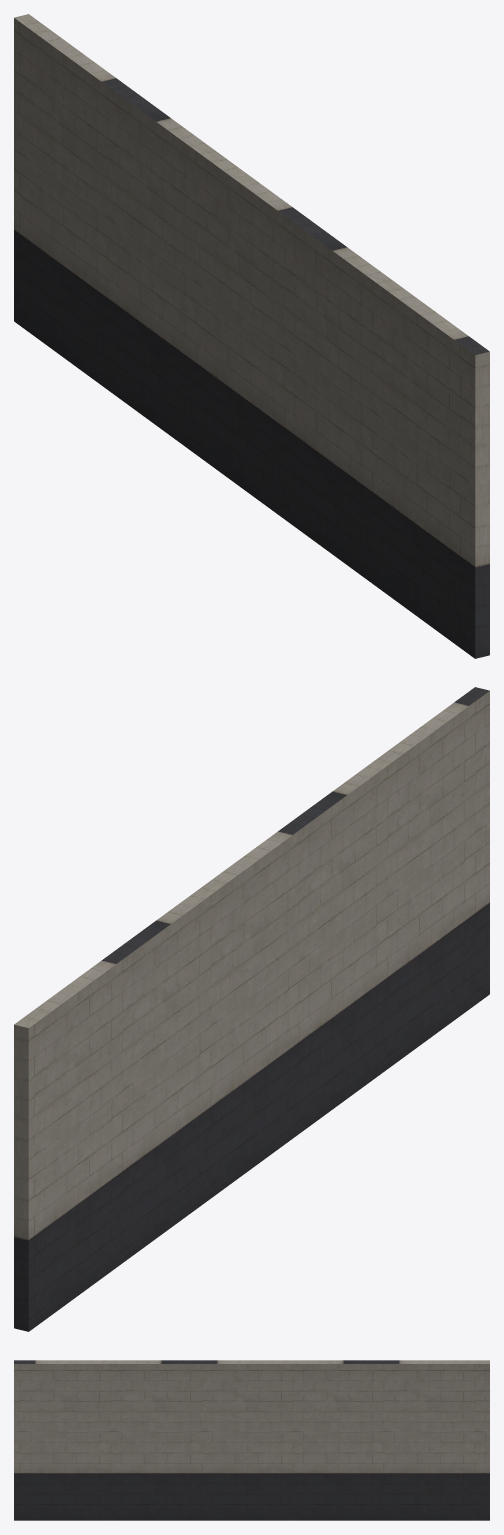
Rendered from souplongwall020.glb.
3 renders of one model, top to bottom at view 1: azimuth 30°, elevation 25°; view 2: azimuth 150°, elevation 25°; view 3: azimuth 270°, elevation 25°, orthographic. The views are drawn at different scales.
Parts seen in each view (by area): view 1: souplongwall020_high_1; view 2: souplongwall020_high_1; view 3: souplongwall020_high_1.
Part boxes in pixels (box(x1,y1,x2,y2)): souplongwall020_high_1: box(14, 14, 489, 658); souplongwall020_high_1: box(14, 687, 489, 1331); souplongwall020_high_1: box(14, 1360, 489, 1520).
Bounding box in the file's own units: 0.1504 × 2.95 × 8.11.
1 material, 1 textured.
